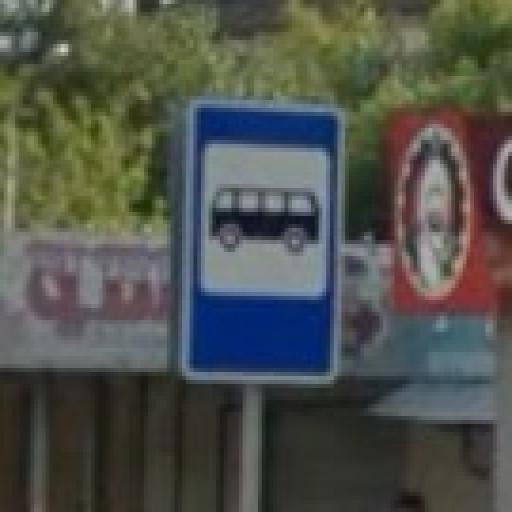traffic_sign: (179, 97, 346, 385)
